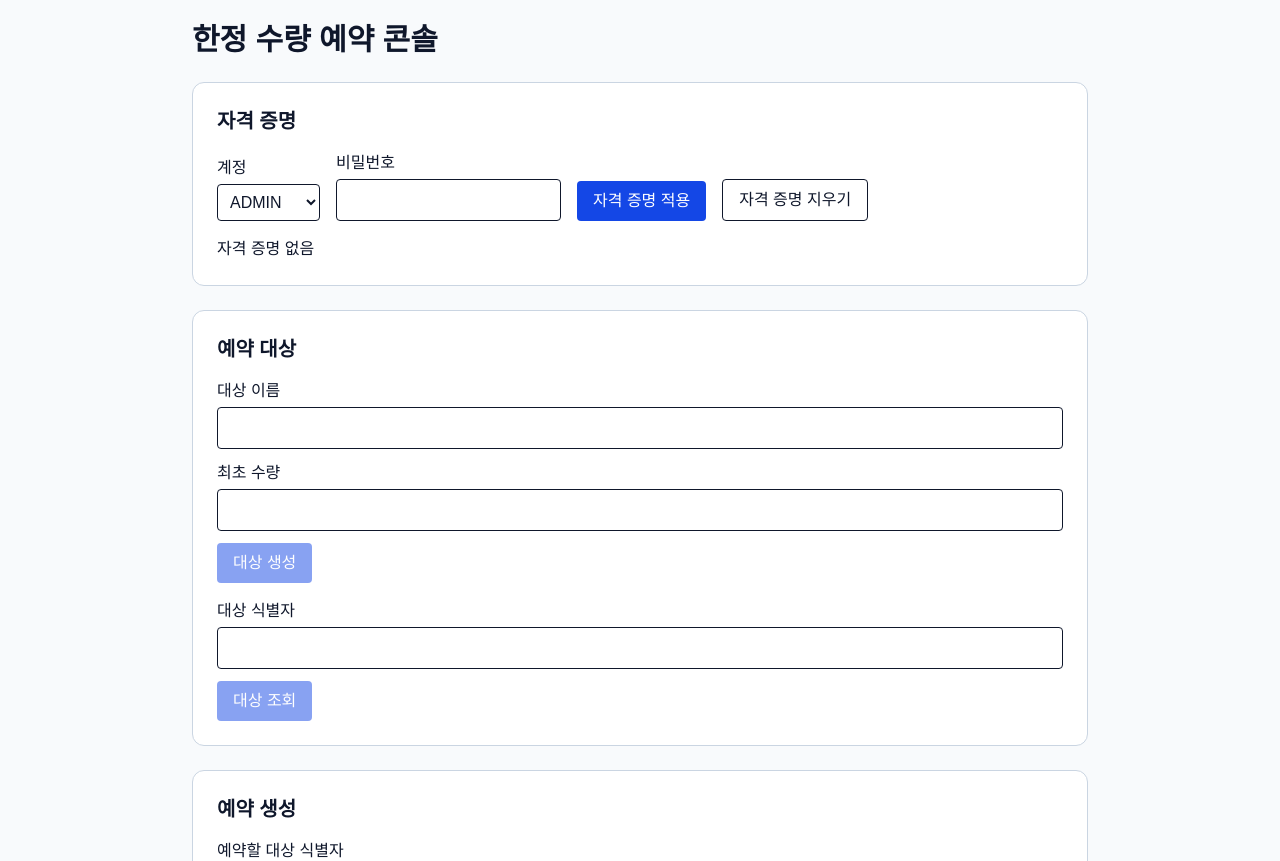
Scenario: 최초 예약 결과와 직전 시도 재전송 › 201의 모든 필드와 보존 헤더 및 최초 재현 여부와 사용한 키를 표시한다
Select "USER_A" in the dropdown labelled "계정": (268, 202) [217,184,320,221]
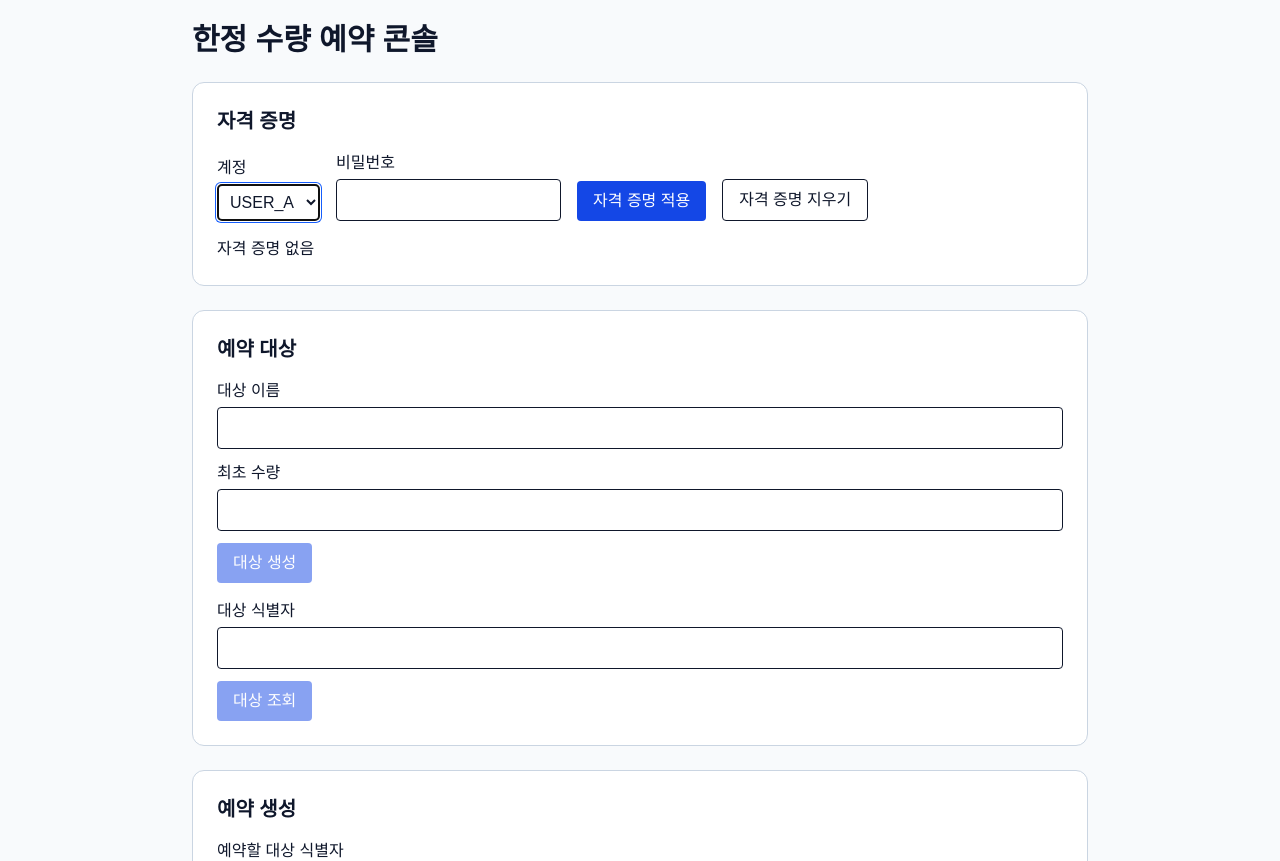
In the password field labelled "비밀번호": (448, 200) [336,179,561,221], type "pw"
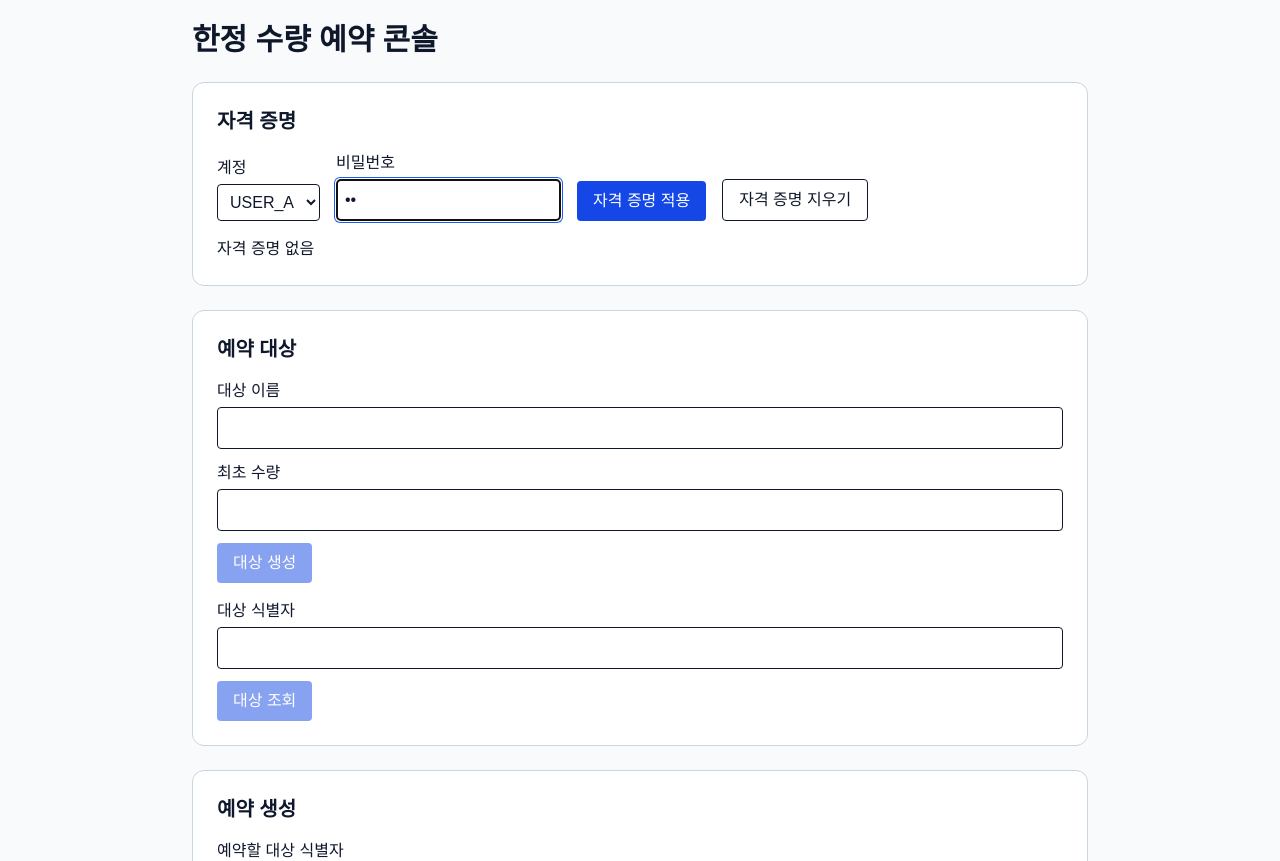
Click the button "자격 증명 적용": (642, 201) [577,181,706,221]
(page scrolled)
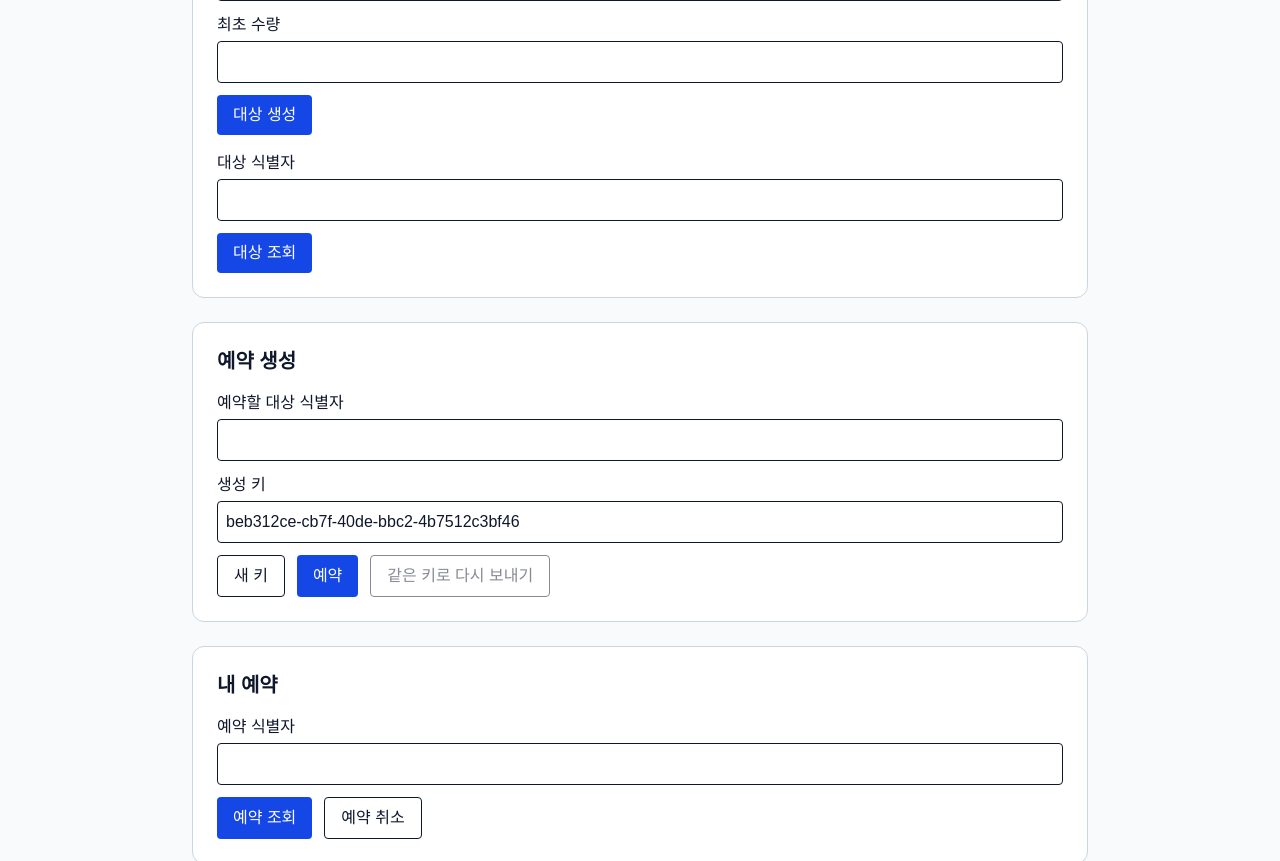
In the field labelled "예약할 대상 식별자": (640, 440) [217,419,1063,461], type "12345678-1234-4234-8234-123456789abc"
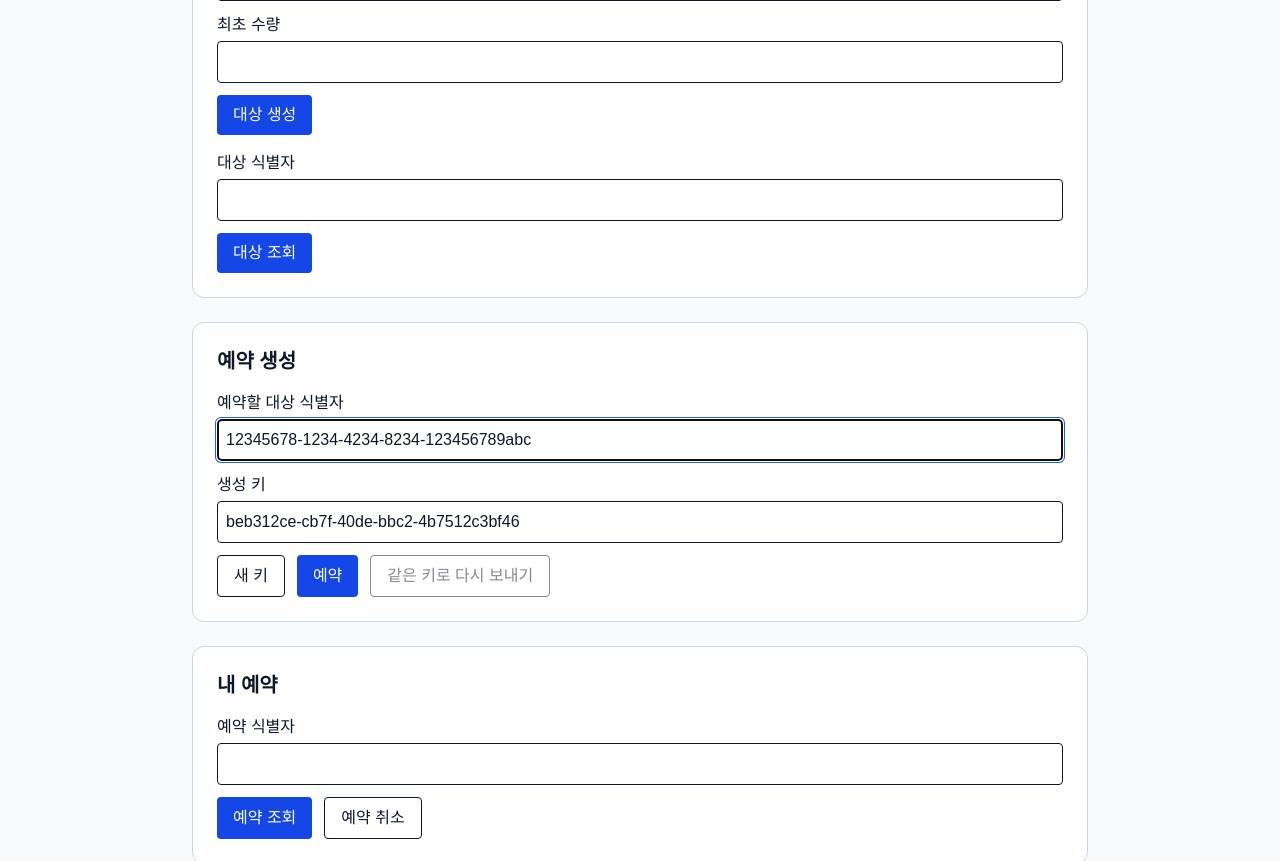
Replace the text in the field labelled "생성 키" with "attempt-key": (640, 522) [217,501,1063,543]
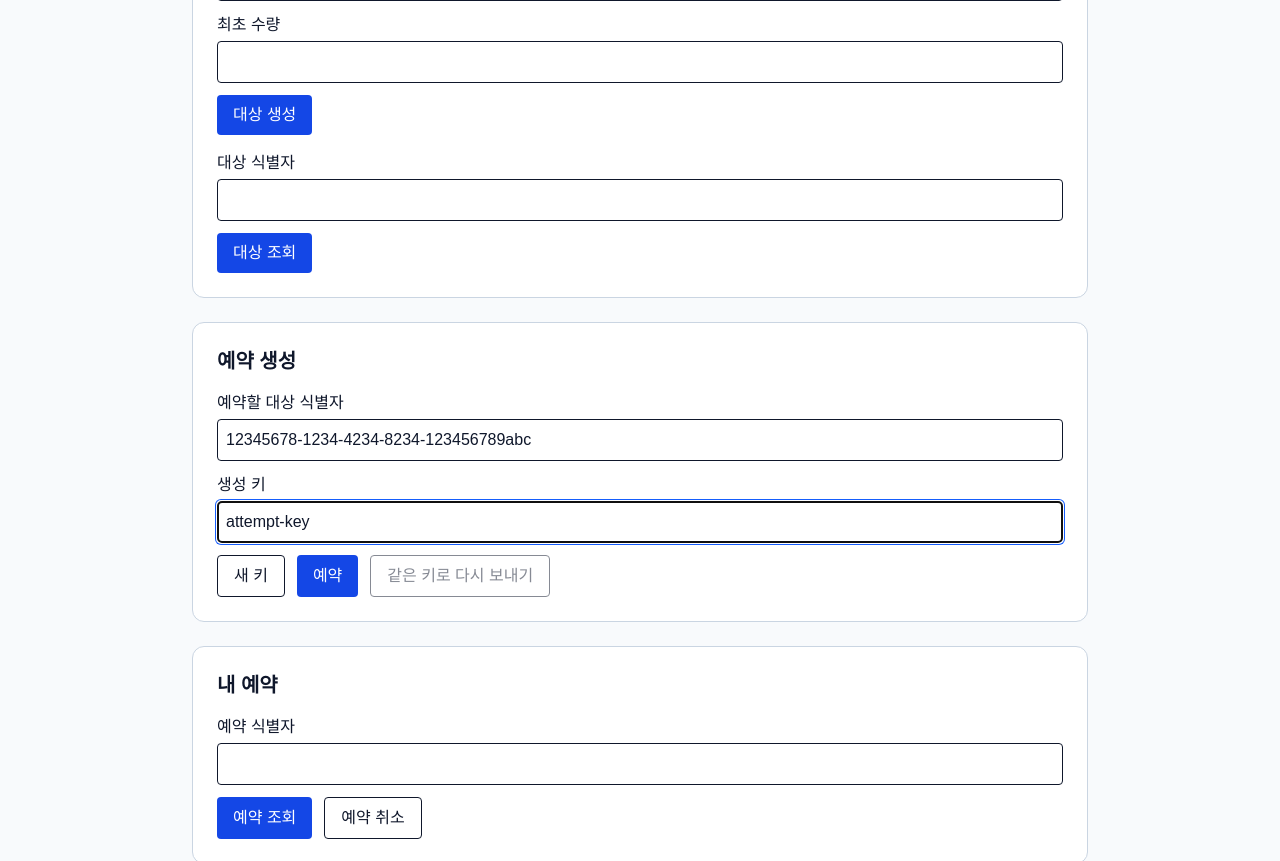
Click the button "예약": (328, 576) [297,555,358,597]
(page scrolled)
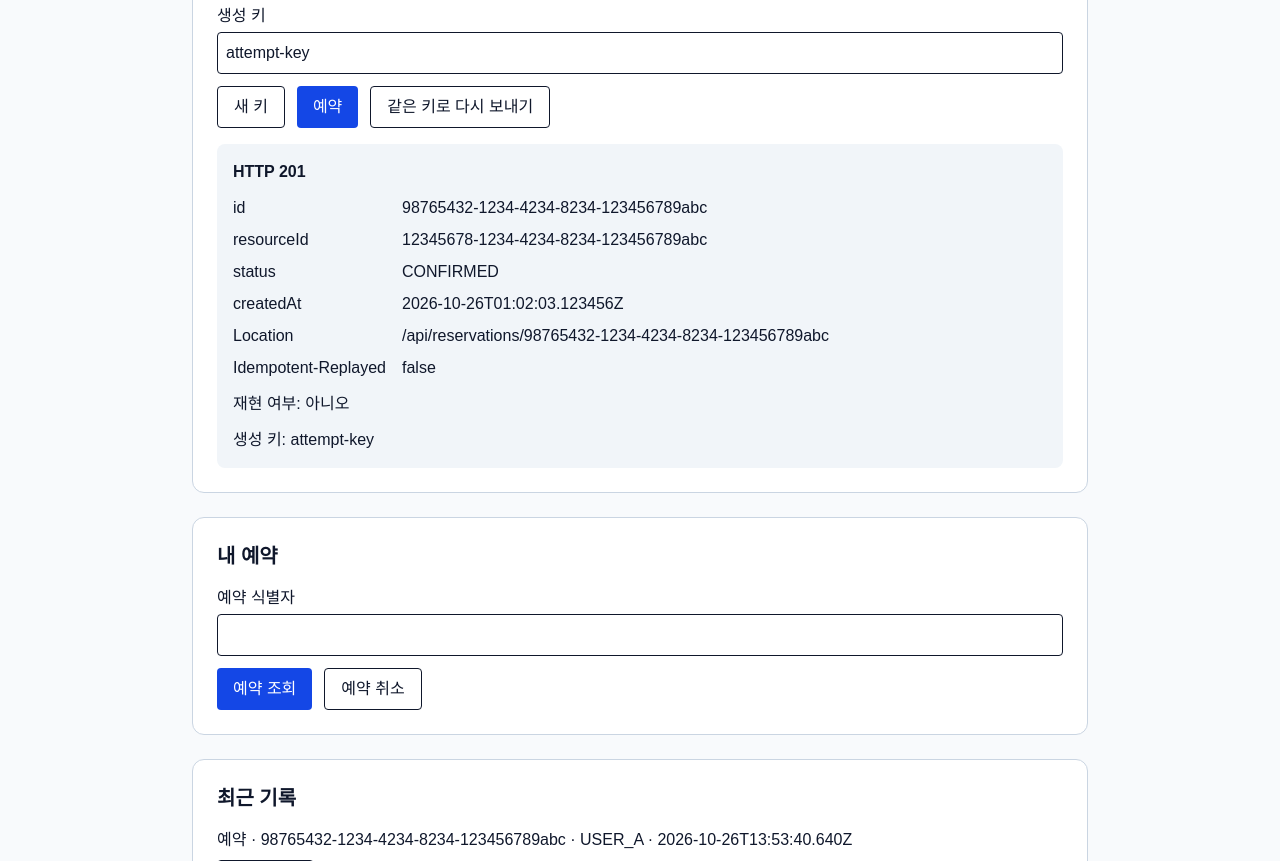
Expected: the text "HTTP 201" is shown, [233,163,306,180]
Expected: the text "98765432-1234-4234-8234-123456789abc" is shown, [402,199,707,216]
Expected: the text "12345678-1234-4234-8234-123456789abc" is shown, [402,231,707,248]
